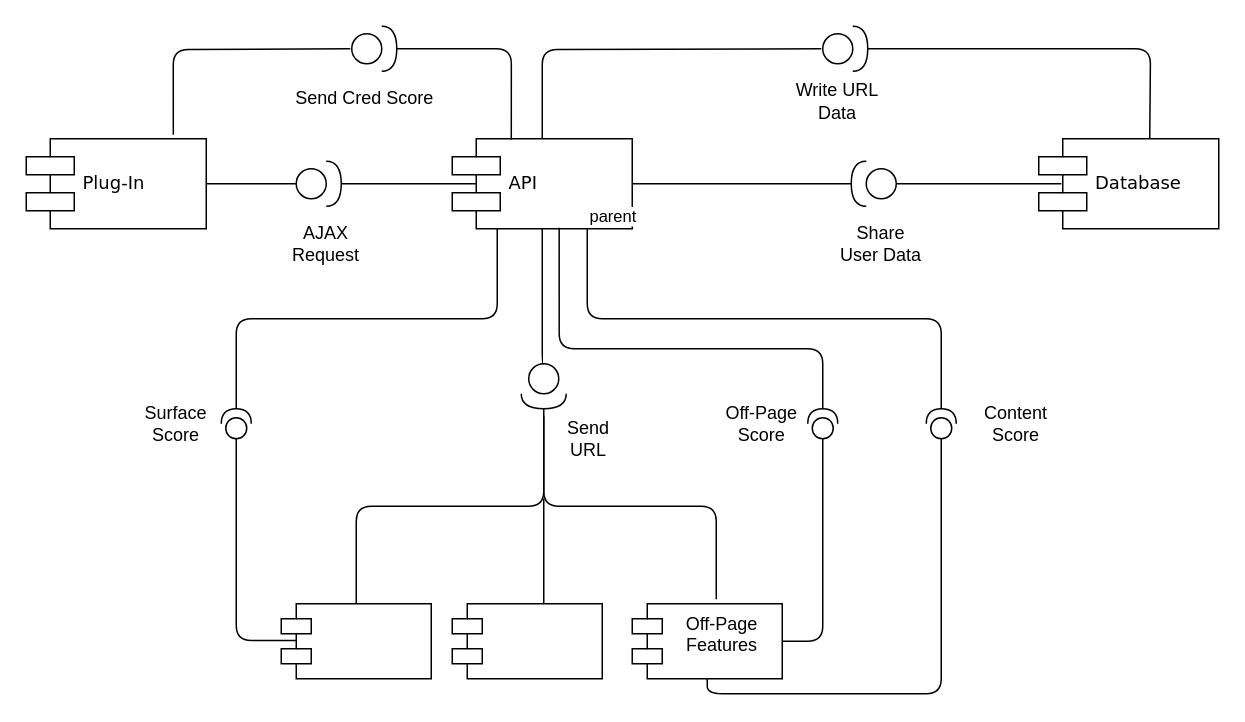
The diagram is 1245 pixels wide and 722 high, and some of its shapes have lost their labels. The box of each missing label's shape, as (x1, y1, x2, y2) in pixels:
Content Features: (451, 602, 602, 679)
Surface Features: (280, 602, 431, 679)
